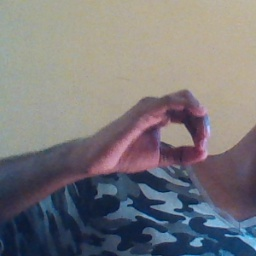O: (98, 85, 212, 179)
